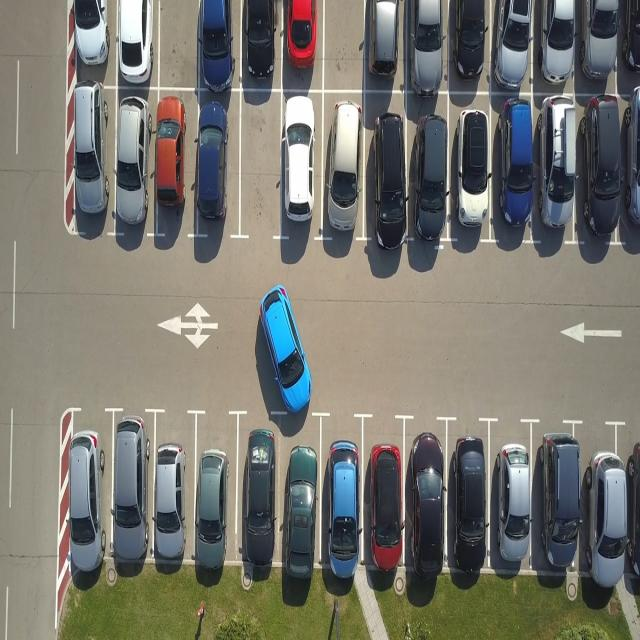space-empty: (239, 90, 285, 242), (320, 0, 369, 88), (158, 0, 202, 87)
space-occupied: (573, 423, 636, 608), (530, 419, 586, 595), (59, 406, 112, 582), (108, 407, 156, 575), (191, 408, 240, 569), (486, 417, 534, 581), (403, 415, 450, 581), (571, 102, 625, 245), (359, 413, 404, 583), (148, 408, 195, 570), (446, 416, 494, 574), (321, 416, 366, 580), (321, 89, 369, 242), (192, 87, 240, 240), (361, 90, 409, 241), (64, 86, 113, 232), (237, 420, 284, 572), (488, 101, 538, 243), (406, 96, 454, 241), (532, 101, 581, 243), (154, 87, 198, 241), (451, 104, 499, 245), (280, 418, 322, 579), (278, 88, 322, 241), (113, 87, 156, 236), (571, 2, 619, 95), (448, 0, 497, 91), (402, 0, 450, 91), (534, 0, 581, 92), (66, 2, 115, 89), (488, 0, 534, 90), (279, 0, 323, 91), (116, 0, 162, 85), (242, 0, 286, 88), (198, 0, 242, 87), (362, 0, 404, 88), (618, 104, 640, 247), (616, 0, 639, 92)
